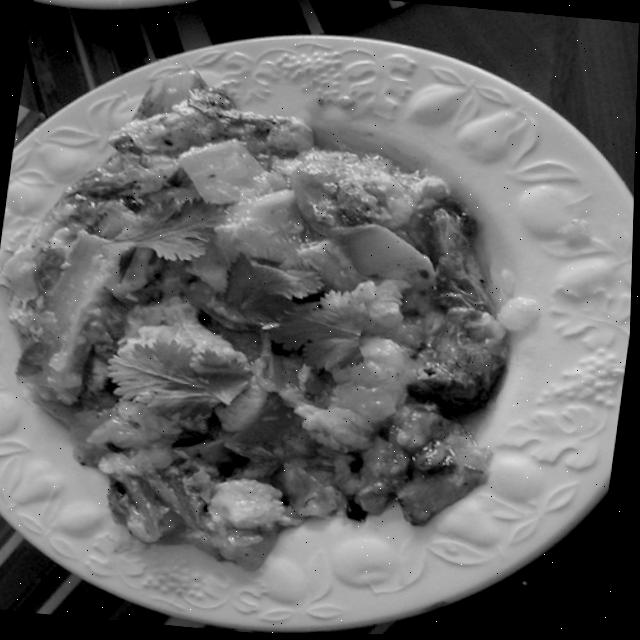熟制海鲜: (0, 2, 630, 640)
